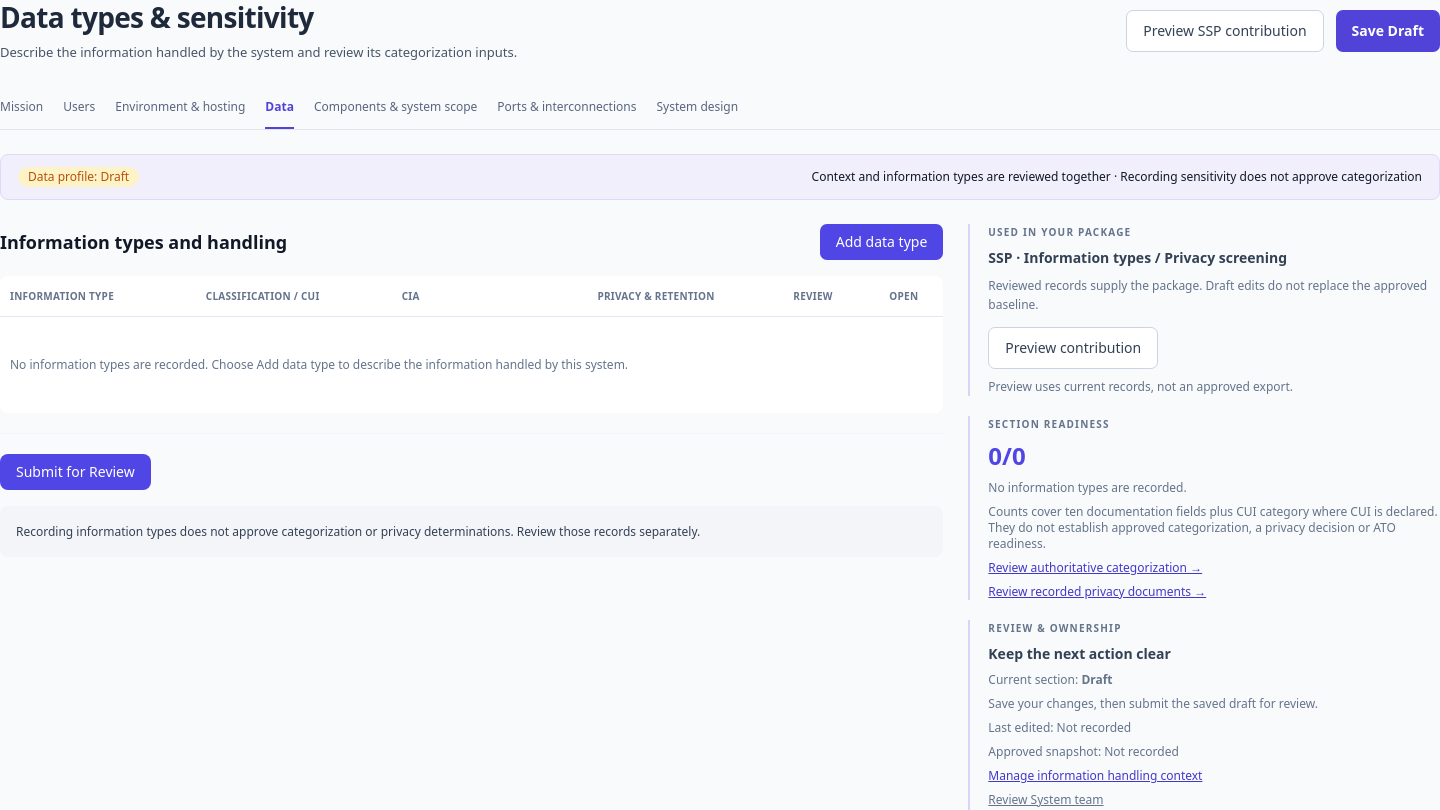
Scenario: server-authoritative profile editing (#968) › places Data Save Draft at the top and opens Add data type beside the table without saving
Click the button "Add data type".
click(882, 242)  # box [820,224,943,260]
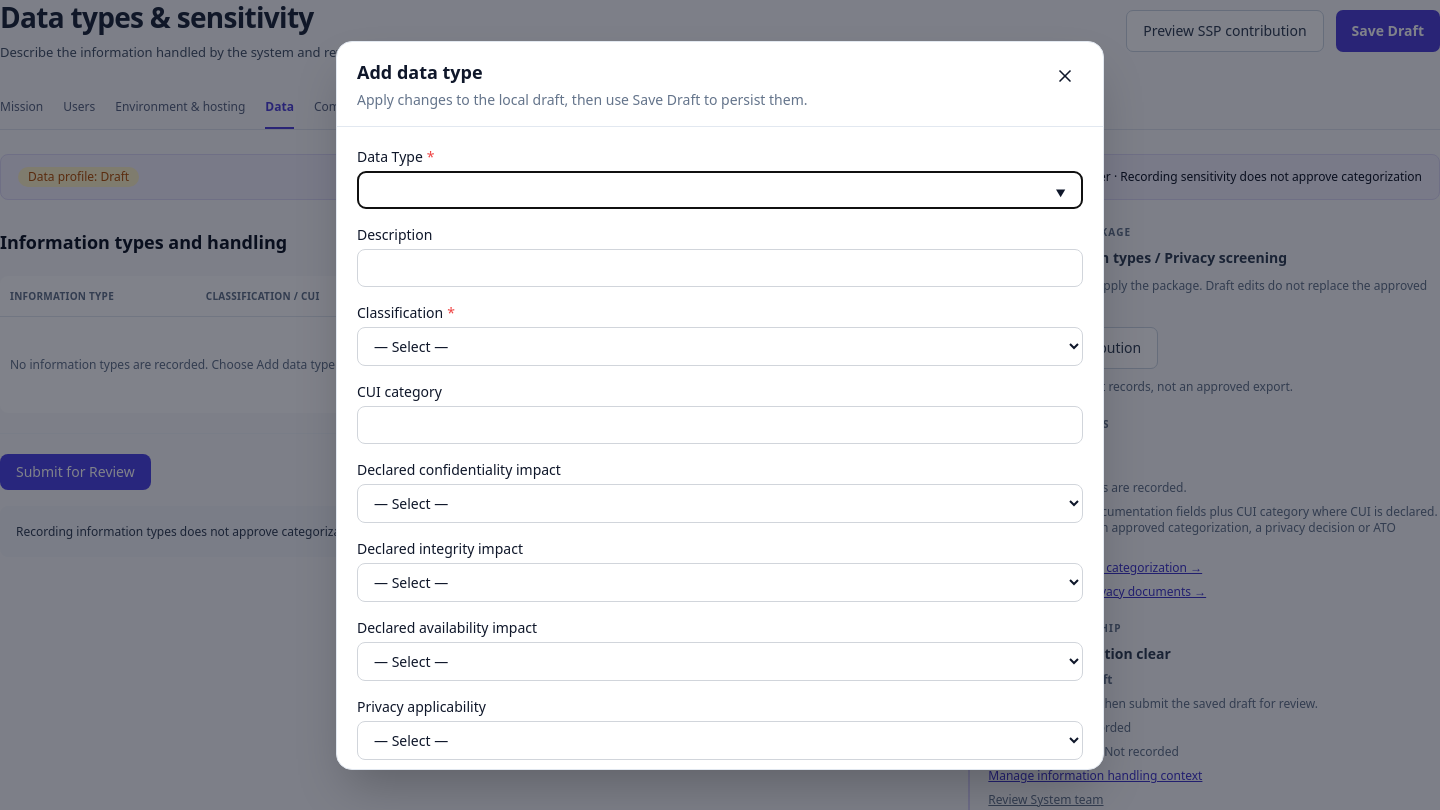
Check: the number of buttons "Add data type" is 1, box [820,224,943,260]
Check: the dialog "Add data type" is shown, box [336,40,1104,770]
